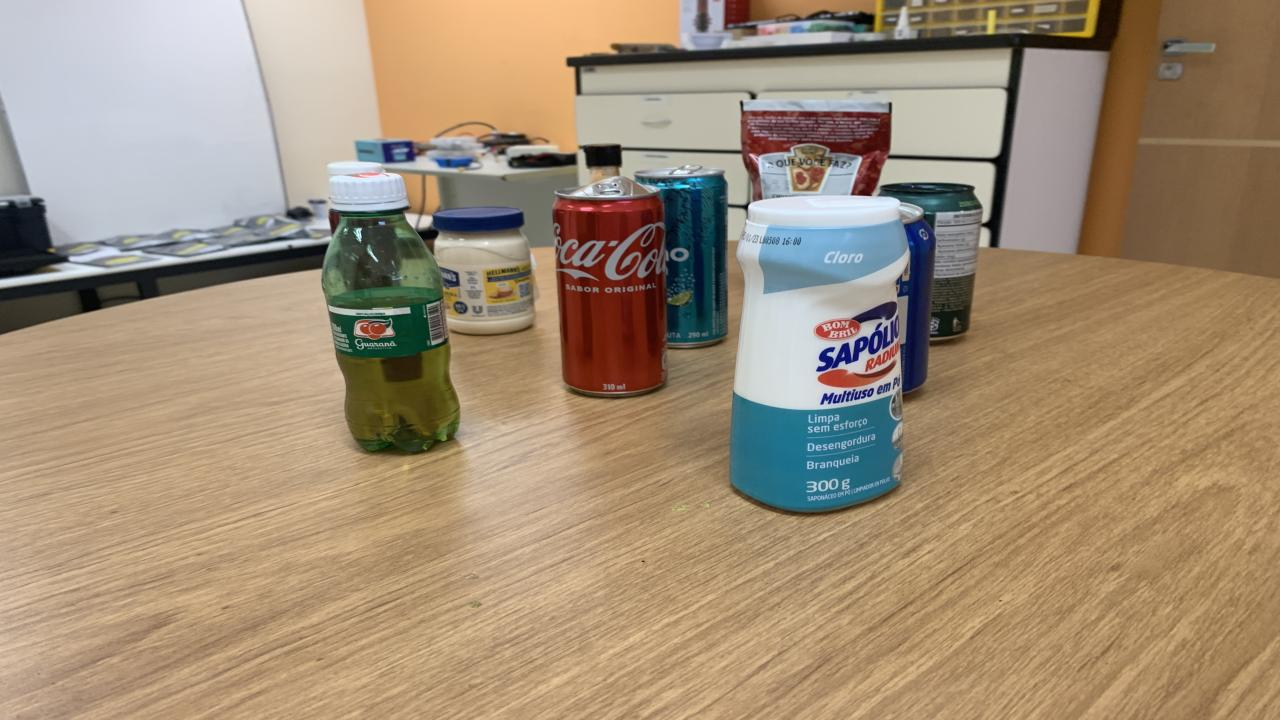Cleaner-Cleanup_Items: (730, 195, 908, 512)
Coke-Drinks: (552, 169, 668, 396)
Guarana-Drinks: (322, 172, 460, 452)
Guarana_Can-Drinks: (880, 182, 990, 339)
Mayonnaise-Pantry_Items: (432, 206, 535, 334)
Tea-Drinks: (635, 165, 728, 347)
Tomato_Sauce-Pantry_Items: (740, 99, 892, 201)
Tonic-Drinks: (898, 202, 935, 392)
